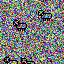sheep: (13, 20, 27, 31), (38, 10, 52, 21), (4, 57, 18, 64), (21, 58, 35, 64)
